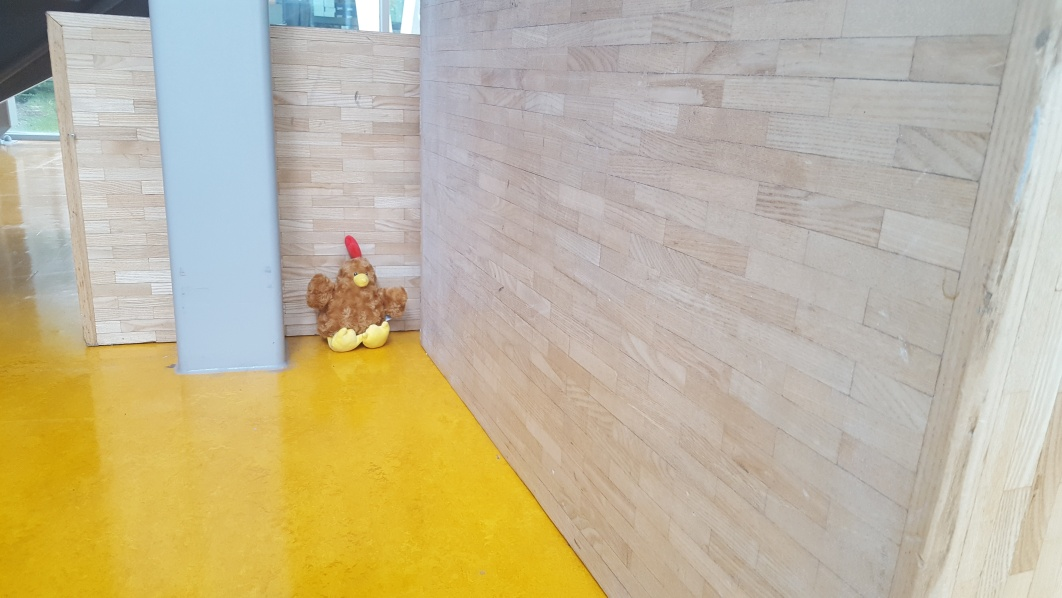chicken: (305, 232, 407, 353)
